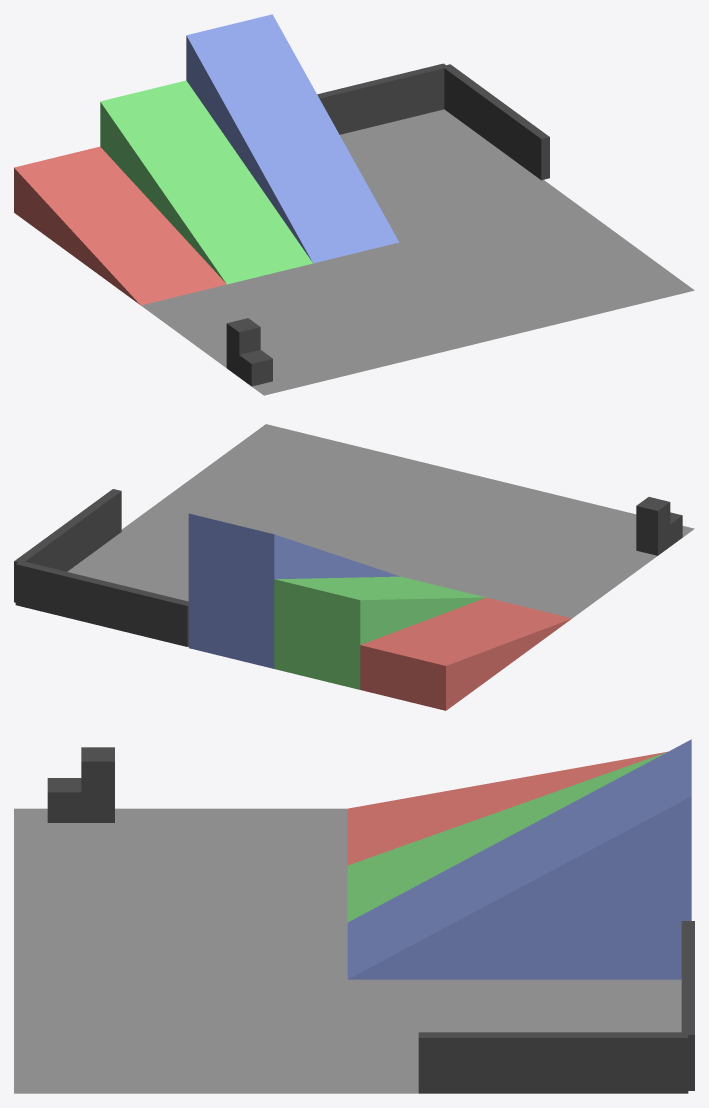
3 renders of one model, top to bottom at view 1: azimuth 30°, elevation 25°; view 2: azimuth 150°, elevation 25°; view 3: azimuth 270°, elevation 25°, orthographic. The views are drawn at different scales.
Visible parts, largest first — view 1: Plane, Ramp3, Ramp2, Ramp1, Border1, Border2, Cube2m, Cube1m; view 2: Plane, Ramp3, Ramp2, Ramp1, Border1, Border2, Cube2m; view 3: Plane, Ramp3, Border2, Ramp1, Ramp2, Cube2m, Border1, Cube1m.
Boxes of the visible parts, left/top/right/bottom form: Plane: left=141, top=109, right=694, bottom=395; Ramp3: left=186, top=14, right=399, bottom=263; Ramp2: left=100, top=80, right=312, bottom=284; Ramp1: left=14, top=146, right=226, bottom=305; Border1: left=317, top=63, right=447, bottom=134; Border2: left=443, top=64, right=549, bottom=180; Cube2m: left=226, top=318, right=260, bottom=376; Cube1m: left=239, top=349, right=272, bottom=386; Plane: left=67, top=424, right=694, bottom=646; Ramp3: left=188, top=513, right=399, bottom=668; Ramp2: left=274, top=576, right=485, bottom=689; Ramp1: left=360, top=597, right=571, bottom=710; Border1: left=15, top=561, right=188, bottom=646; Border2: left=14, top=489, right=121, bottom=602; Cube2m: left=636, top=497, right=670, bottom=555; Plane: left=14, top=808, right=681, bottom=1093; Ramp3: left=347, top=739, right=691, bottom=979; Border2: left=418, top=1032, right=688, bottom=1093; Ramp1: left=347, top=751, right=667, bottom=865; Ramp2: left=347, top=752, right=666, bottom=922; Cube2m: left=81, top=747, right=114, bottom=822; Border1: left=681, top=921, right=694, bottom=1090; Cube1m: left=47, top=778, right=81, bottom=822.
Bounding box in the file's own units: 20.2 × 6 × 20.2.
